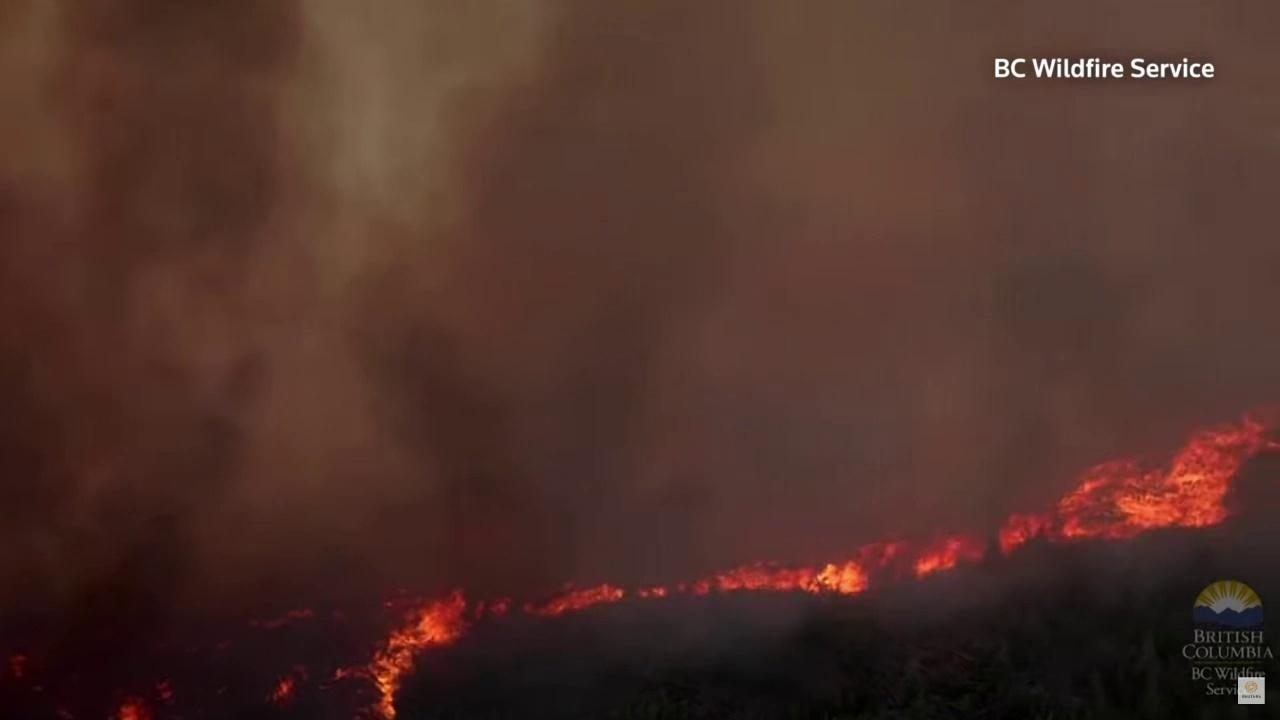fire: (244, 398, 1280, 720), (103, 674, 183, 718), (4, 650, 28, 679)
smoke: (0, 0, 1280, 720)
